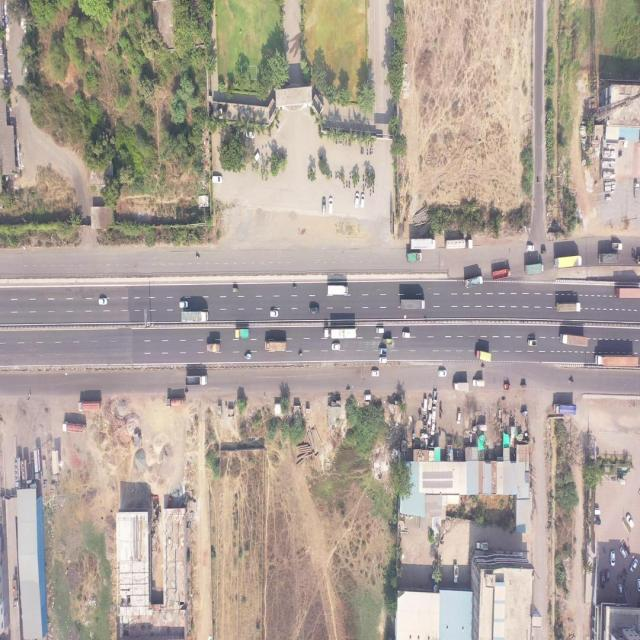3W: (519, 409, 529, 418), (504, 383, 511, 391), (116, 392, 122, 401), (541, 248, 547, 255), (232, 288, 238, 294), (520, 384, 527, 389)
Cars: (625, 510, 634, 529), (211, 174, 223, 184), (245, 129, 255, 141), (619, 544, 627, 559), (630, 559, 638, 573), (309, 305, 320, 315), (253, 151, 261, 164), (98, 296, 108, 306), (178, 299, 188, 309), (360, 193, 366, 209), (610, 551, 616, 567), (321, 196, 326, 215), (328, 196, 333, 214), (601, 571, 606, 589), (330, 342, 340, 351), (402, 330, 411, 340), (270, 309, 279, 318), (526, 242, 535, 251), (438, 369, 447, 378), (456, 410, 461, 424), (355, 192, 359, 208), (428, 395, 432, 411), (379, 356, 387, 364), (376, 326, 384, 334), (371, 370, 380, 377), (423, 398, 427, 412), (618, 584, 622, 598), (428, 412, 432, 425), (433, 405, 436, 421)
LCV: (475, 540, 489, 552), (453, 562, 459, 585), (472, 379, 485, 388), (611, 240, 623, 249), (378, 347, 388, 355), (528, 339, 537, 347), (383, 337, 393, 344)
M2W: (243, 353, 252, 360), (194, 254, 202, 260), (568, 376, 574, 383), (292, 283, 298, 290), (362, 173, 365, 183), (346, 387, 351, 393), (344, 139, 348, 146), (369, 188, 372, 197), (330, 171, 333, 180), (263, 166, 266, 175), (369, 147, 372, 155), (366, 149, 369, 157), (481, 364, 485, 370), (298, 351, 302, 357), (335, 170, 337, 180), (362, 146, 364, 156), (339, 170, 341, 180), (350, 171, 352, 180), (346, 179, 348, 188), (348, 182, 351, 188), (343, 181, 345, 189), (528, 253, 532, 257), (340, 139, 342, 145)
MAV: (594, 352, 640, 367), (322, 327, 358, 340), (614, 283, 640, 299), (554, 255, 582, 269), (444, 237, 473, 250)
Truck: (559, 331, 588, 349), (61, 420, 86, 436), (555, 300, 582, 314), (523, 261, 545, 277), (325, 283, 350, 297), (552, 402, 577, 415), (399, 298, 426, 310), (491, 266, 511, 282), (410, 238, 436, 250), (598, 251, 620, 265), (181, 311, 209, 322), (264, 339, 287, 352), (463, 275, 484, 289), (78, 400, 102, 412), (474, 347, 492, 363), (185, 374, 207, 386), (166, 396, 185, 409), (234, 327, 250, 339), (206, 342, 221, 354), (406, 253, 422, 263), (453, 381, 469, 391)
